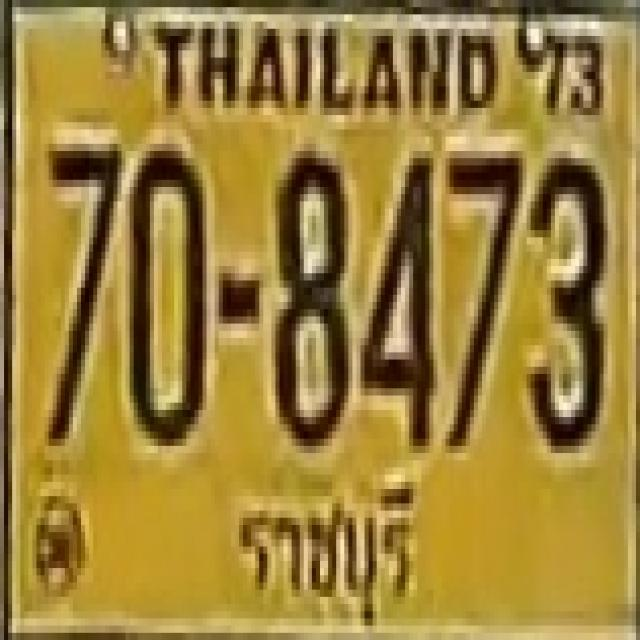RBR: (228, 464, 442, 640)
